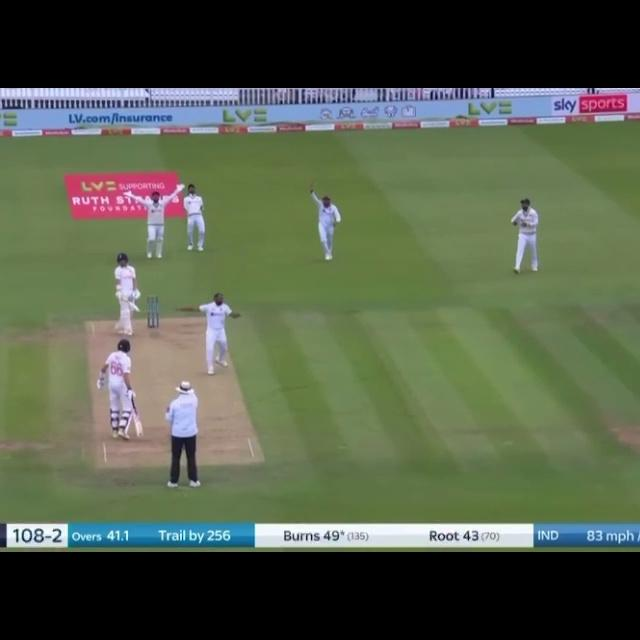umpire: (158, 376, 208, 501)
